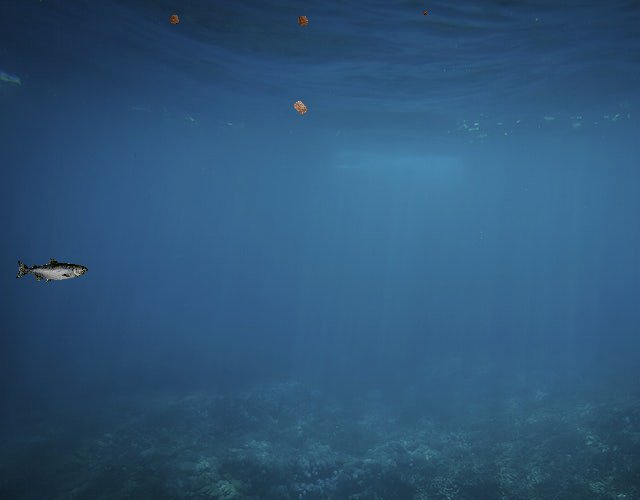Fish: (15, 258, 88, 284)
Pellet: (286, 94, 314, 122), (292, 10, 314, 32)
